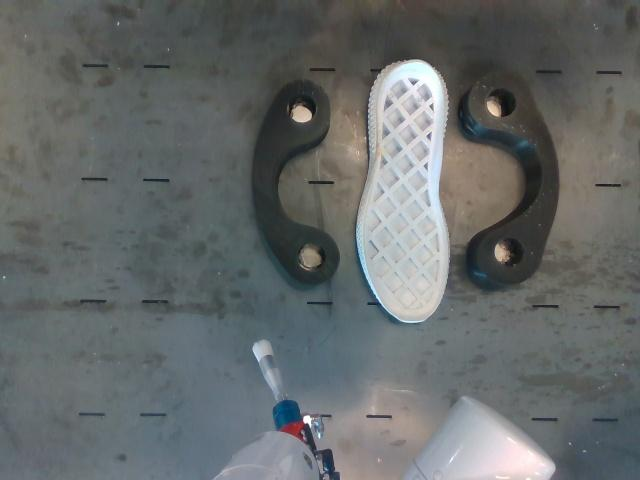shoes: (363, 62, 448, 322)
